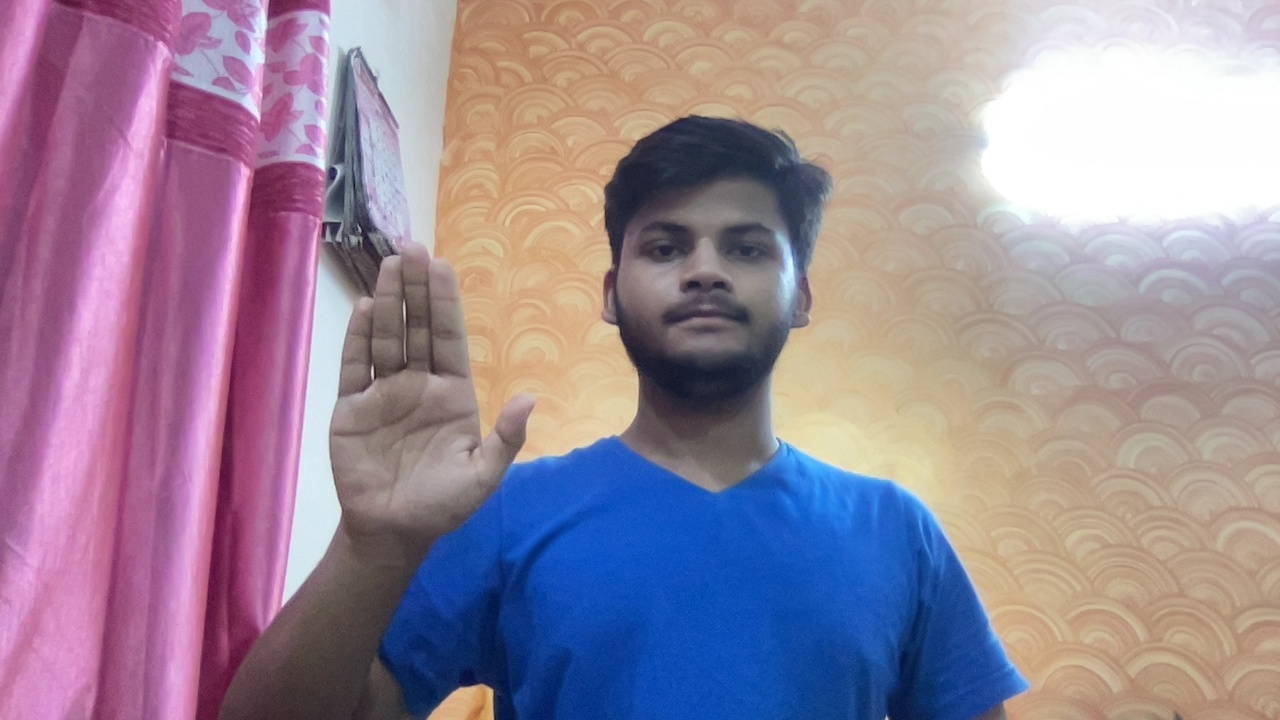hello: (319, 238, 541, 548)
